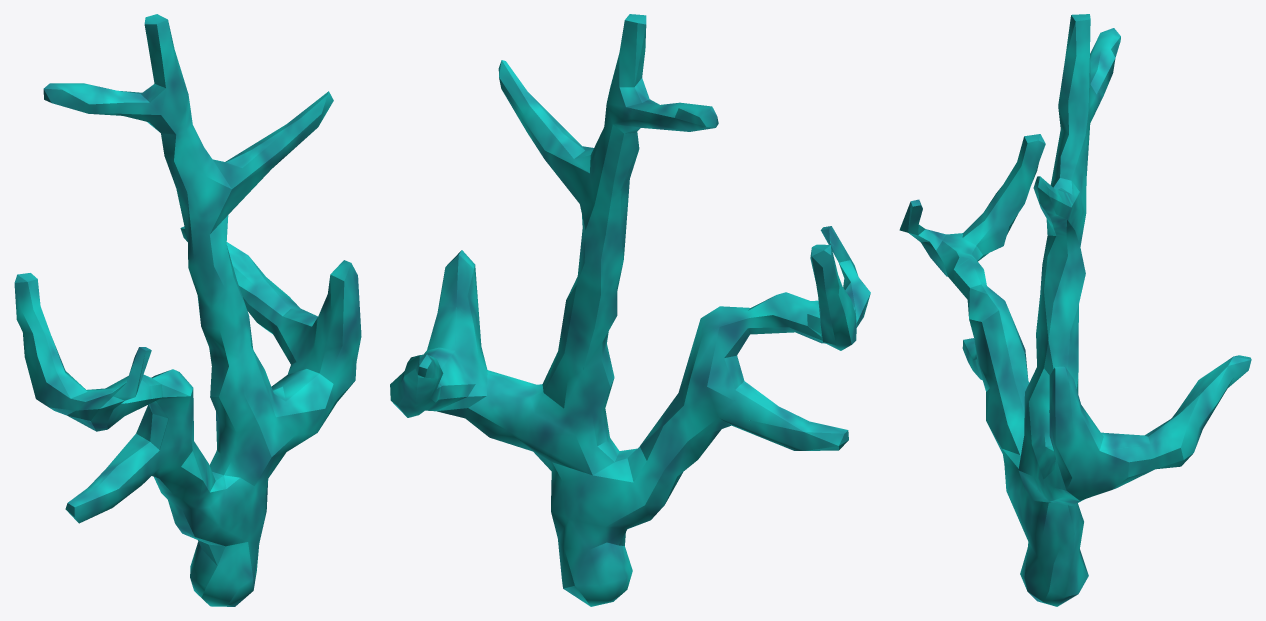
File: Coral2.obj
3 views of the same model, side by side, from view 1: azimuth 30°, elevation 25°; view 2: azimuth 150°, elevation 25°; view 3: azimuth 270°, elevation 25° (orthographic). The views are drawn at different scales.
Parts seen in each view (by area): view 1: Coral2; view 2: Coral2; view 3: Coral2.
Part boxes in pixels (bbox=[...]): Coral2: bbox=[14, 14, 361, 606]; Coral2: bbox=[390, 14, 870, 606]; Coral2: bbox=[899, 14, 1251, 606].
Bounding box in the file's own units: 0.8037 × 1.24 × 0.7037.
